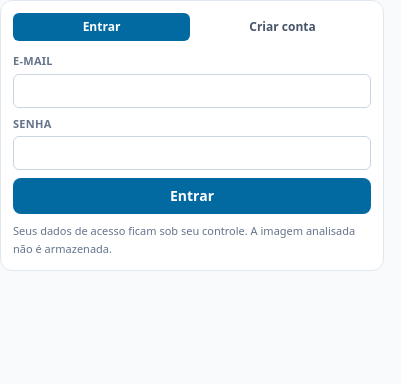
Test case: AuthPanel › avisa sobre muitas tentativas quando recebe 429
Step 1. Type "ana@clinica.com" into the field labelled "E-mail" → (192, 90), box [13,74,371,108]
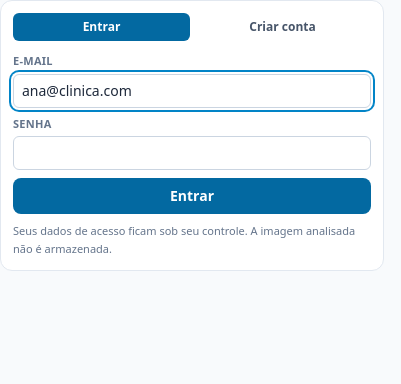
Step 2. Type "segredo123" into the password field labelled "Senha" → (192, 153), box [13,136,371,170]
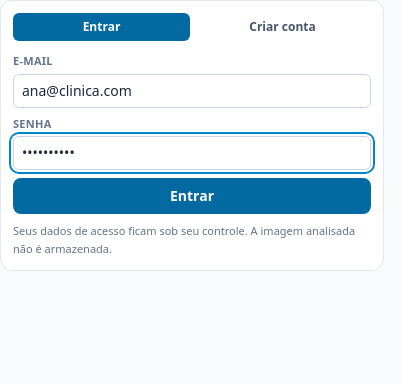
Step 3. Click the button "Entrar" → click(192, 196), box [13,178,371,214]
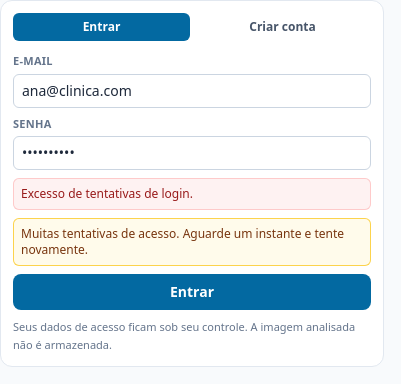
Now the text "Muitas tentativas de acesso. Aguarde um instante e tente novamente." is shown, box [13,218,371,266]
